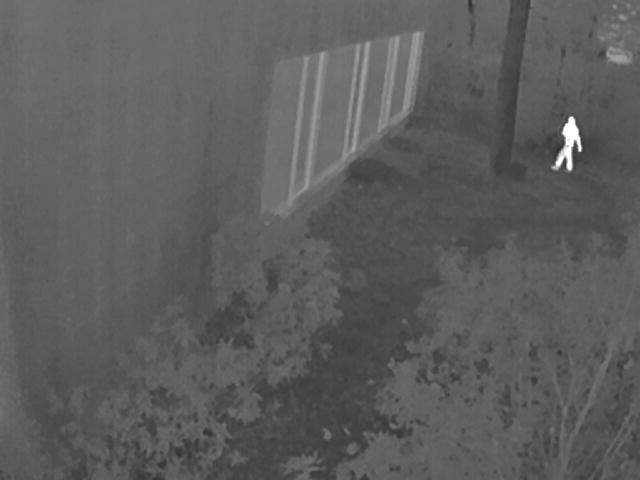person: (553, 115, 584, 170)
